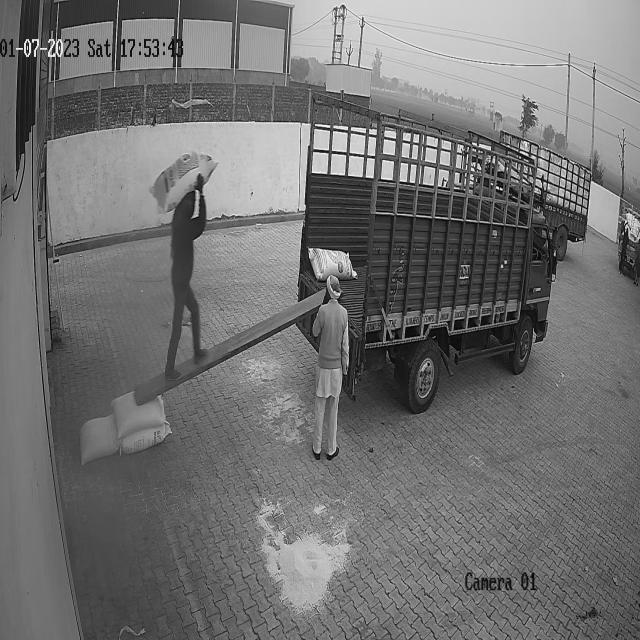sack: (150, 151, 217, 214), (110, 392, 164, 438), (80, 416, 120, 464), (308, 246, 357, 282), (120, 421, 171, 454)
